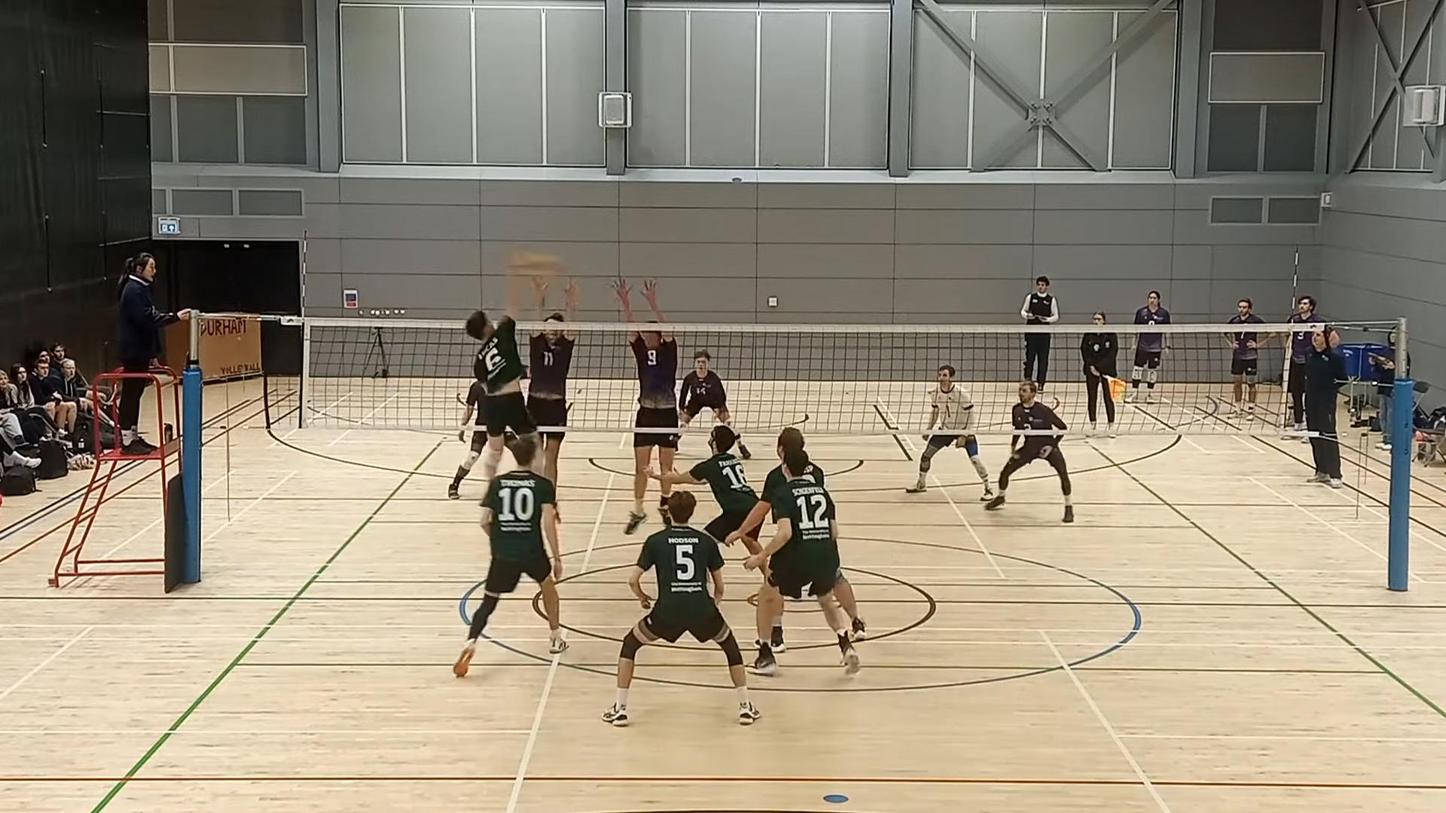Attack: (462, 256, 549, 481)
Block: (599, 260, 682, 534), (522, 261, 579, 522)
Player: (602, 491, 760, 726), (453, 436, 566, 676), (745, 449, 859, 674), (985, 380, 1074, 522), (650, 425, 758, 541), (906, 365, 993, 501), (725, 428, 803, 545), (447, 381, 487, 499), (680, 349, 731, 427)
